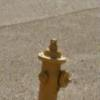Hydrant: (24, 26, 82, 100)
